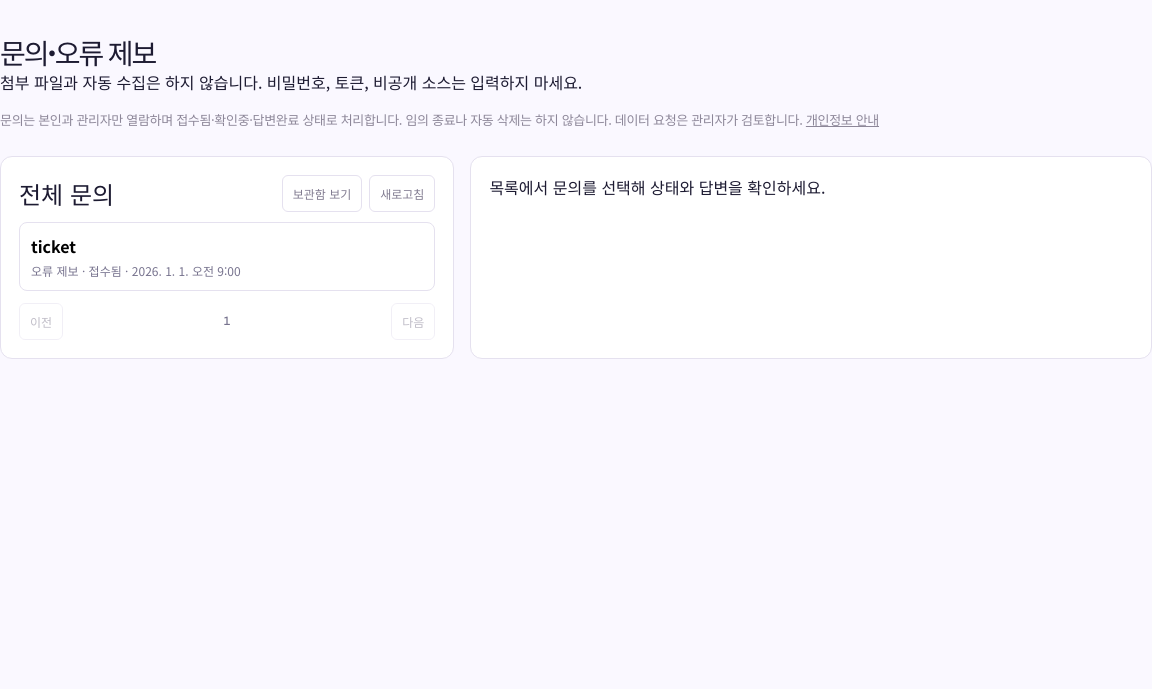
Test: SupportView › preloads the current administrator answer for editing
Click the text "ticket". click: click(53, 246)
box: top-left (31, 234), bottom-right (76, 258)
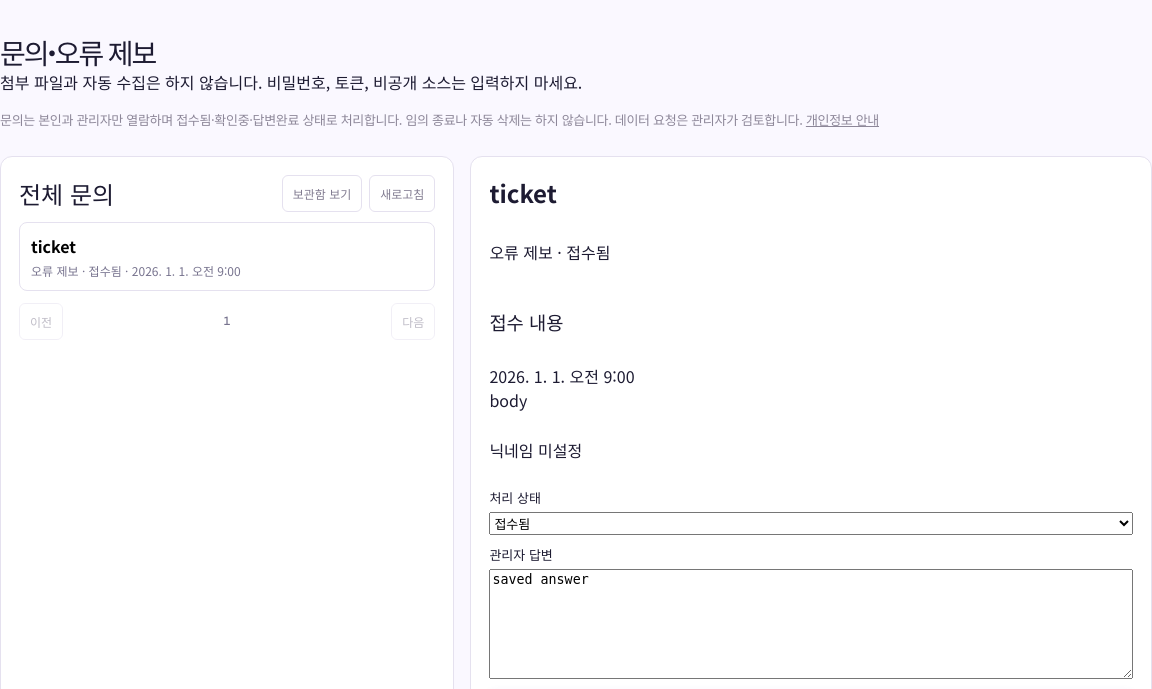
Expected: the heading "접수 내용" is shown, top-left (489, 308), bottom-right (564, 335)
Expected: the text box labelled "관리자 답변" holds "saved answer", top-left (489, 569), bottom-right (1133, 679)
